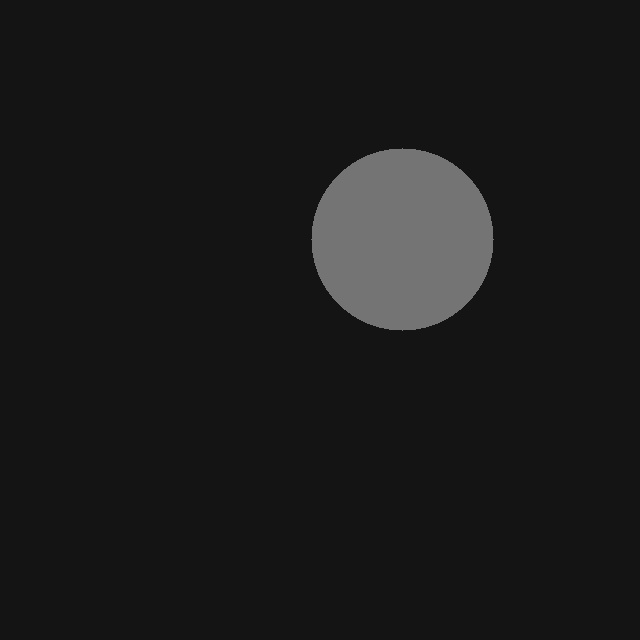circle: (311, 148, 493, 330)
